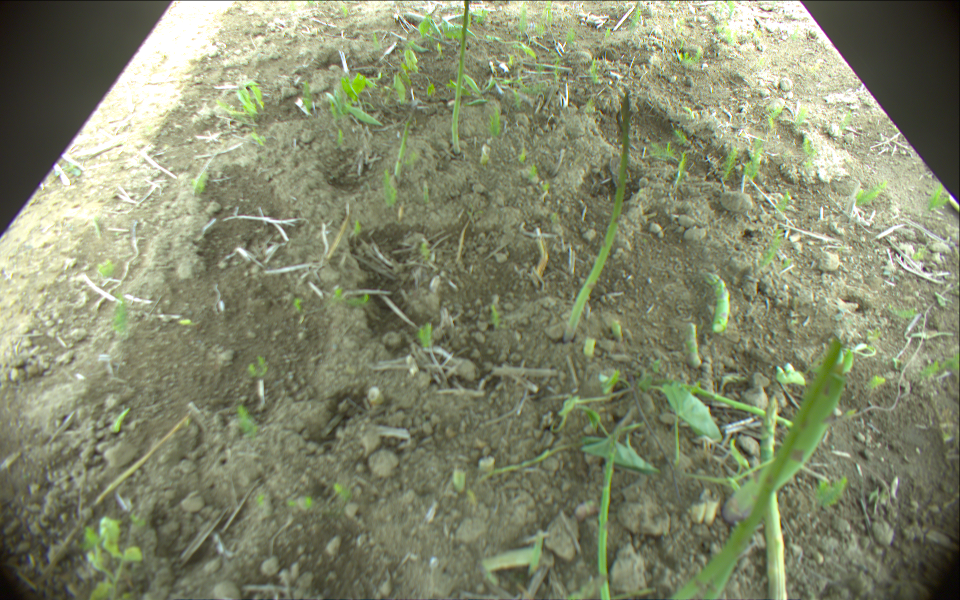aspa: (666, 375, 843, 600), (702, 335, 843, 600), (565, 90, 631, 343), (760, 398, 788, 600), (598, 437, 618, 600), (452, 1, 473, 154), (394, 100, 417, 179), (702, 272, 730, 334), (688, 323, 703, 368)
